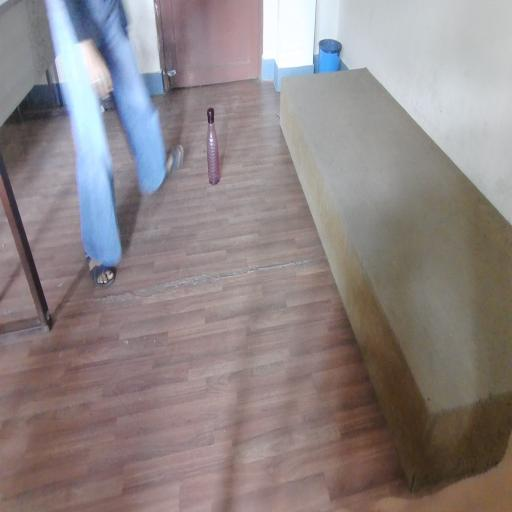Bottle: (196, 100, 236, 192)
